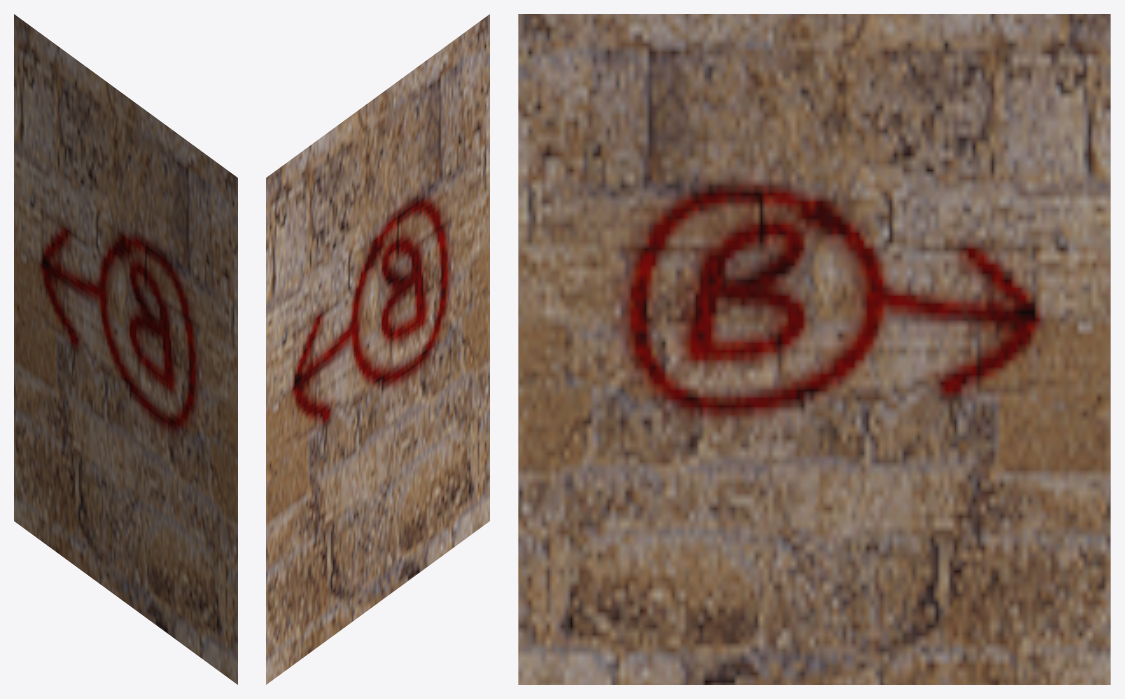
The picture shows the model from 3 angles, left to right: view 1: azimuth 30°, elevation 25°; view 2: azimuth 150°, elevation 25°; view 3: azimuth 270°, elevation 25°; orthographic projection. The views are drawn at different scales.
Visible parts, largest first — view 1: Object_19; view 2: Object_19; view 3: Object_19.
Part boxes in pixels (box(x1,y1,x2,y2)): Object_19: box(14, 14, 237, 684); Object_19: box(266, 14, 489, 684); Object_19: box(518, 14, 1110, 684).
Size of the model in its own units: 0 by 2.13 by 1.71.
Materials: 1 (1 with a texture image).
